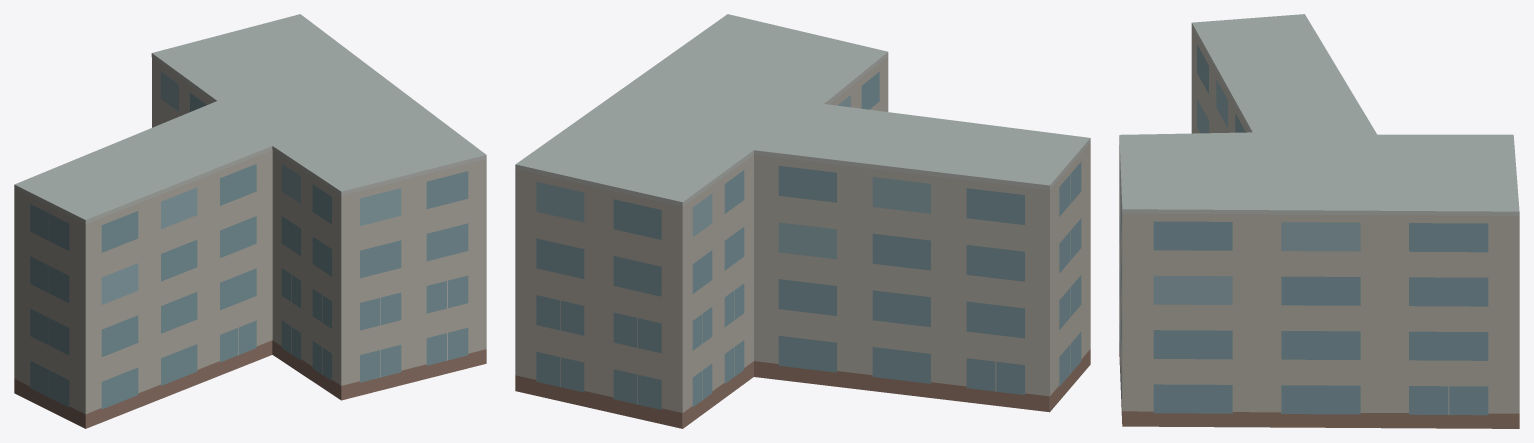
The model's file is survey-upis-33001886.glb.
3 renders of one model, left to right at view 1: azimuth 30°, elevation 25°; view 2: azimuth 150°, elevation 25°; view 3: azimuth 270°, elevation 25°, orthographic. The views are drawn at different scales.
Visible parts, largest first — view 1: survey-upis-33001886.tmp; view 2: survey-upis-33001886.tmp; view 3: survey-upis-33001886.tmp.
Part boxes in pixels (x1=…): survey-upis-33001886.tmp: x1=14, y1=14, x2=486, y2=428; survey-upis-33001886.tmp: x1=515, y1=14, x2=1090, y2=428; survey-upis-33001886.tmp: x1=1119, y1=14, x2=1519, y2=428.
Bounding box in the file's own units: 23.81 × 12.2 × 20.37.
